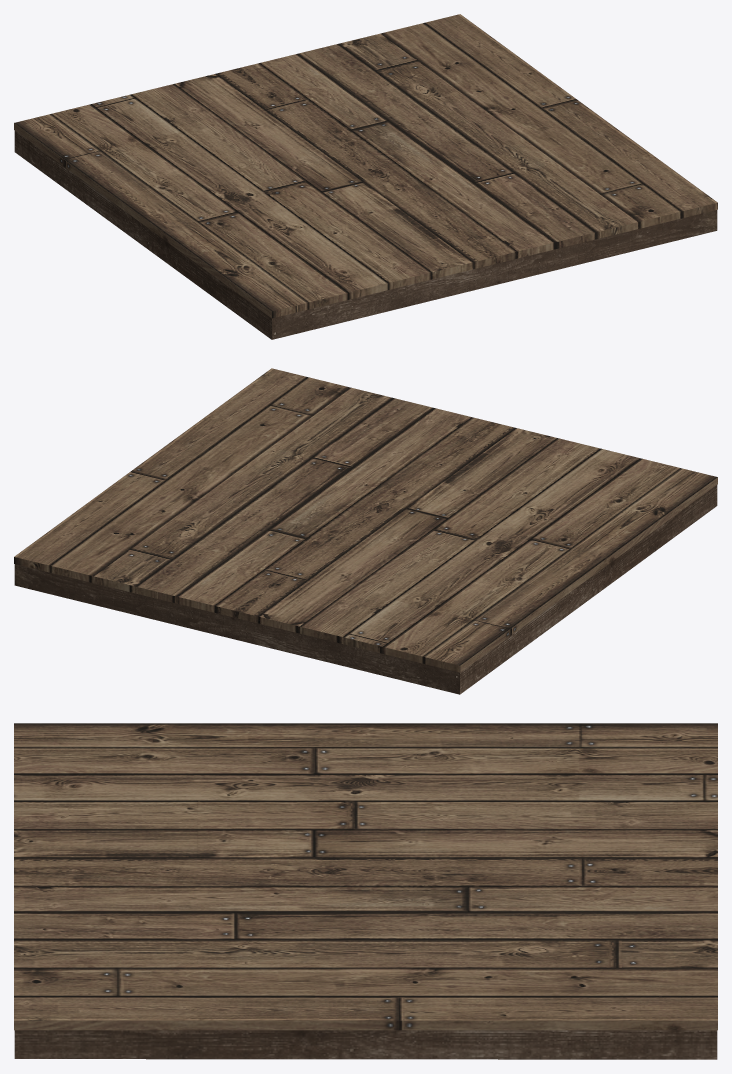
File: Floor.dae
3 views of the same model, one above another, from view 1: azimuth 30°, elevation 25°; view 2: azimuth 150°, elevation 25°; view 3: azimuth 270°, elevation 25° (orthographic). The views are drawn at different scales.
Parts seen in each view (by area): view 1: woodenfloor; view 2: woodenfloor; view 3: woodenfloor.
Boxes of the visible parts, x1,y1,x2,y2 form: woodenfloor: (14, 14, 717, 339); woodenfloor: (14, 368, 717, 694); woodenfloor: (14, 723, 717, 1059).
Bounding box in the file's own units: 4 × 0.2532 × 4.
Materials: 1 (1 with a texture image).
